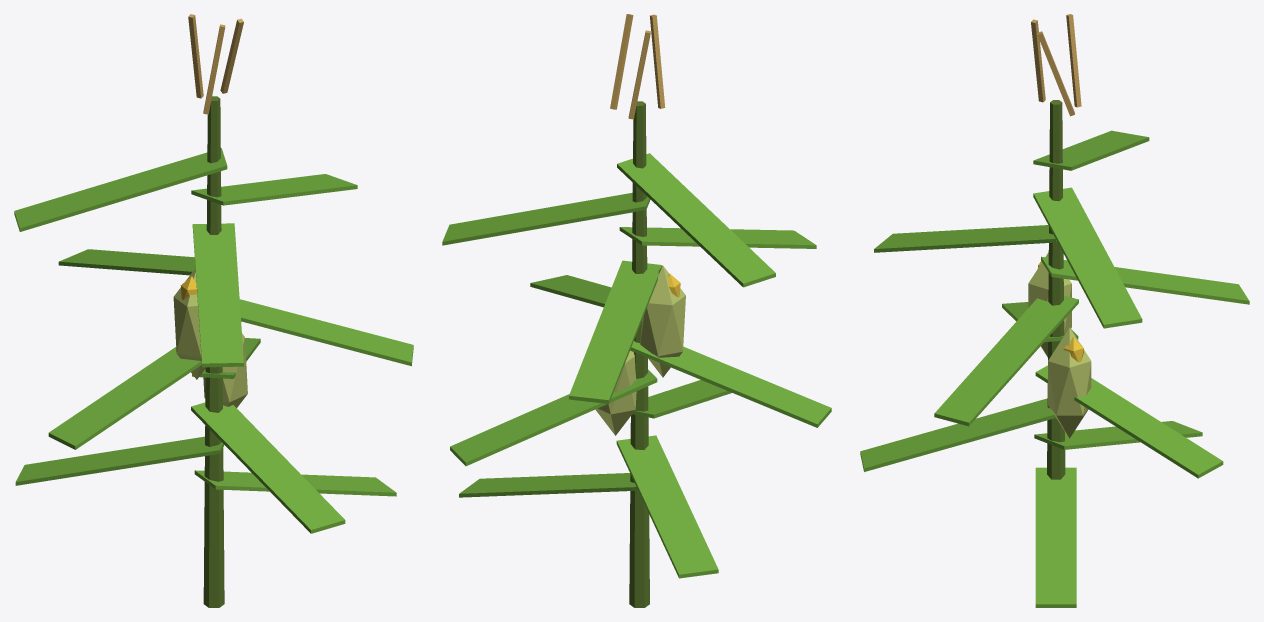
The model's file is f04-jagung-3.glb.
3 renders of one model, left to right at view 1: azimuth 30°, elevation 25°; view 2: azimuth 150°, elevation 25°; view 3: azimuth 270°, elevation 25°, orthographic. The views are drawn at different scales.
Parts seen in each view (by area): view 1: EX_kebun:daun-jagung.001, EX_kebun:batang.005, EX_kebun:kelobot, EX_kebun:malai; view 2: EX_kebun:daun-jagung.001, EX_kebun:batang.005, EX_kebun:kelobot, EX_kebun:malai; view 3: EX_kebun:daun-jagung.001, EX_kebun:kelobot, EX_kebun:batang.005, EX_kebun:malai.
Boxes of the visible parts, left/top/right/bottom form: EX_kebun:daun-jagung.001: left=14, top=148, right=413, bottom=533; EX_kebun:batang.005: left=203, top=96, right=224, bottom=607; EX_kebun:kelobot: left=173, top=268, right=247, bottom=407; EX_kebun:malai: left=188, top=14, right=243, bottom=114; EX_kebun:daun-jagung.001: left=442, top=153, right=831, bottom=578; EX_kebun:batang.005: left=629, top=101, right=649, bottom=607; EX_kebun:kelobot: left=595, top=266, right=685, bottom=435; EX_kebun:malai: left=610, top=14, right=665, bottom=119; EX_kebun:daun-jagung.001: left=860, top=130, right=1249, bottom=607; EX_kebun:kelobot: left=1028, top=252, right=1091, bottom=438; EX_kebun:batang.005: left=1047, top=100, right=1065, bottom=479; EX_kebun:malai: left=1031, top=14, right=1081, bottom=116.
Bounding box in the file's own units: 1.14 × 1.86 × 1.14.
